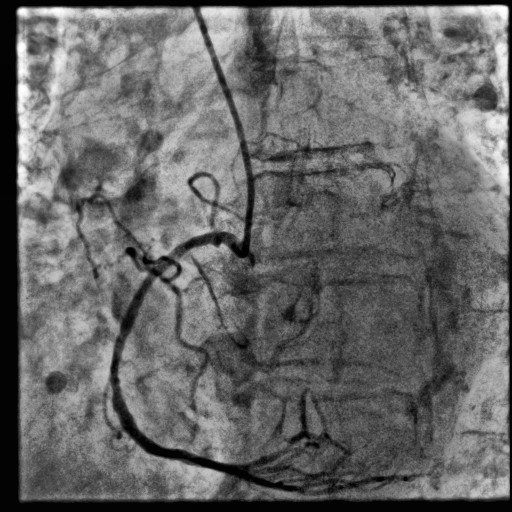pborca: (232, 390, 309, 469)
pda: (227, 470, 420, 495)
rca: (109, 231, 242, 472)
